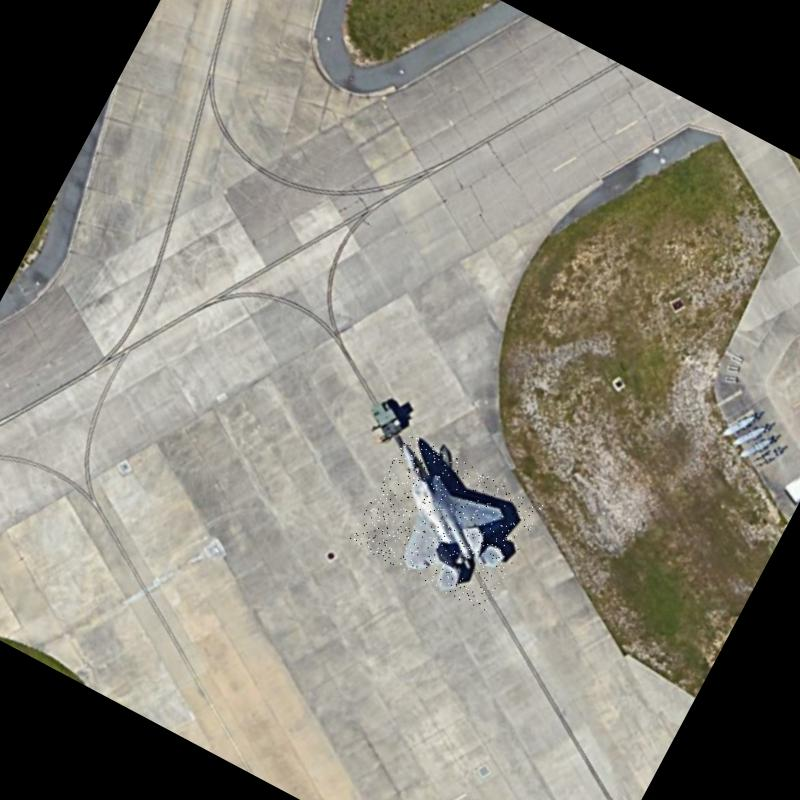A15: (348, 431, 542, 614)
